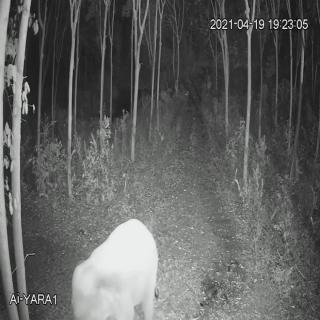Elephant: (72, 214, 162, 320)
